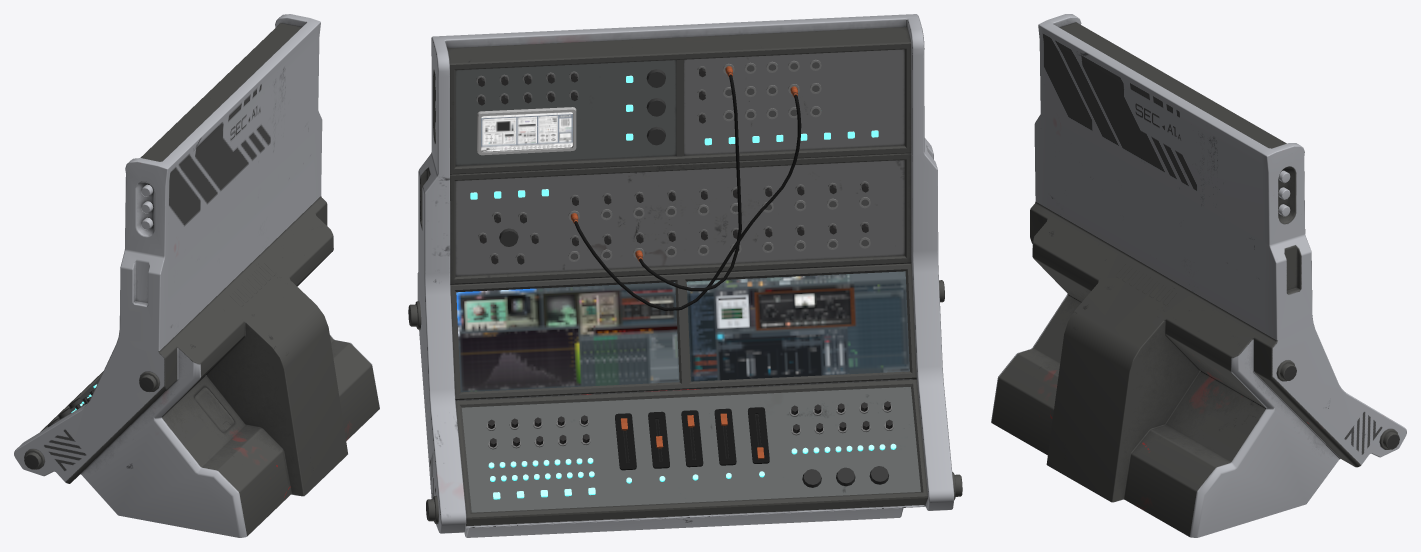
Rendered from Control Pannel.glb.
The picture shows the model from 3 angles, left to right: view 1: azimuth 30°, elevation 25°; view 2: azimuth 150°, elevation 25°; view 3: azimuth 270°, elevation 25°; orthographic projection. The views are drawn at different scales.
Parts seen in each view (by area): view 1: Object_2; view 2: Object_2; view 3: Object_2.
Boxes of the visible parts, x1,y1,x2,y2 form: Object_2: (14,14,379,537); Object_2: (408,14,962,537); Object_2: (991,14,1406,537).
Size of the model in its own units: 1.37 by 1.27 by 1.28.
2 materials, 2 textured.
